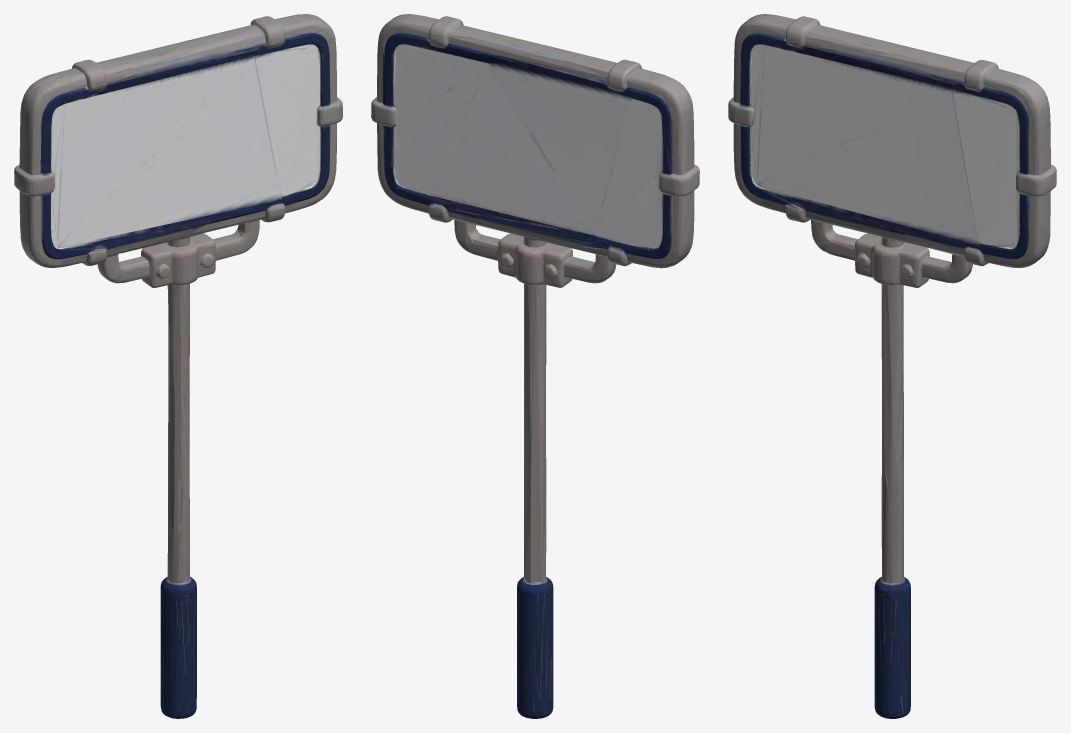
The model's file is sign.glb.
3 views of the same model, side by side, from view 1: azimuth 30°, elevation 25°; view 2: azimuth 150°, elevation 25°; view 3: azimuth 330°, elevation 25° (orthographic).
Visible parts, largest first — view 1: output_unwrapped; view 2: output_unwrapped; view 3: output_unwrapped.
Boxes of the visible parts, x1,y1,x2,y2 form: output_unwrapped: [14, 14, 342, 718]; output_unwrapped: [371, 14, 699, 718]; output_unwrapped: [728, 14, 1056, 718].
Bounding box in the file's own units: 0.944 × 1.9 × 0.1093.
Materials: 1 (1 with a texture image).
